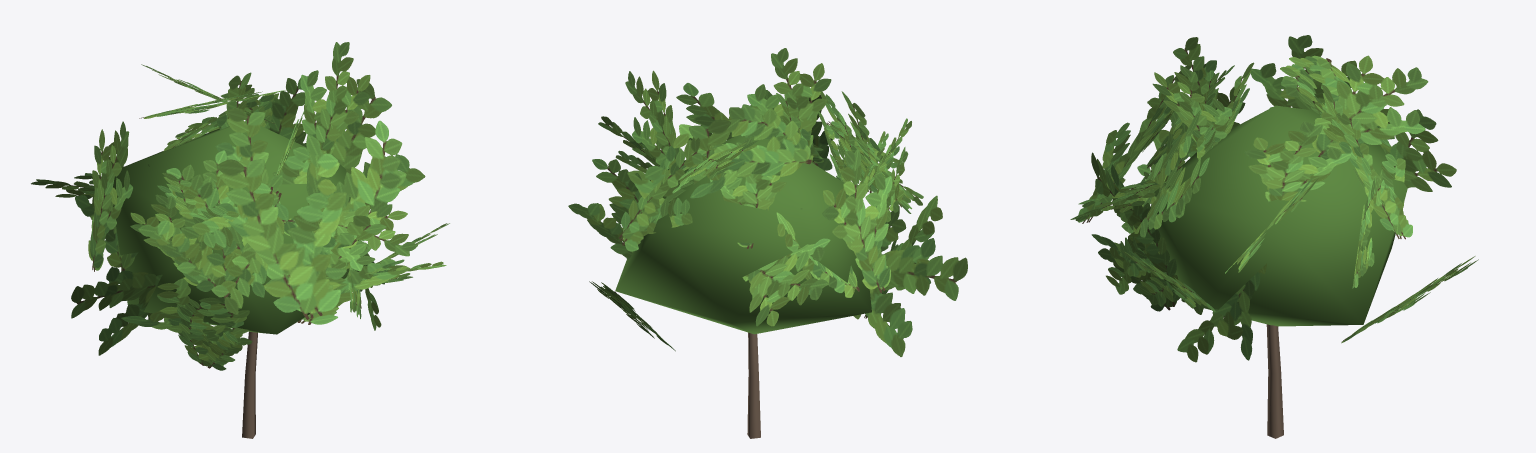
The model's file is CERCIS_2.glb.
3 renders of one model, left to right at view 1: azimuth 30°, elevation 25°; view 2: azimuth 150°, elevation 25°; view 3: azimuth 270°, elevation 25°, orthographic. The views are drawn at different scales.
Parts seen in each view (by area): view 1: Arv_CERCIS_lod2; view 2: Arv_CERCIS_lod2; view 3: Arv_CERCIS_lod2.
Boxes of the visible parts, bbox=[...] form: Arv_CERCIS_lod2: bbox=[31, 42, 449, 438]; Arv_CERCIS_lod2: bbox=[568, 48, 967, 438]; Arv_CERCIS_lod2: bbox=[1070, 35, 1478, 438].
Bounding box in the file's own units: 14.05 × 11.53 × 13.27.
3 materials, 1 textured.
